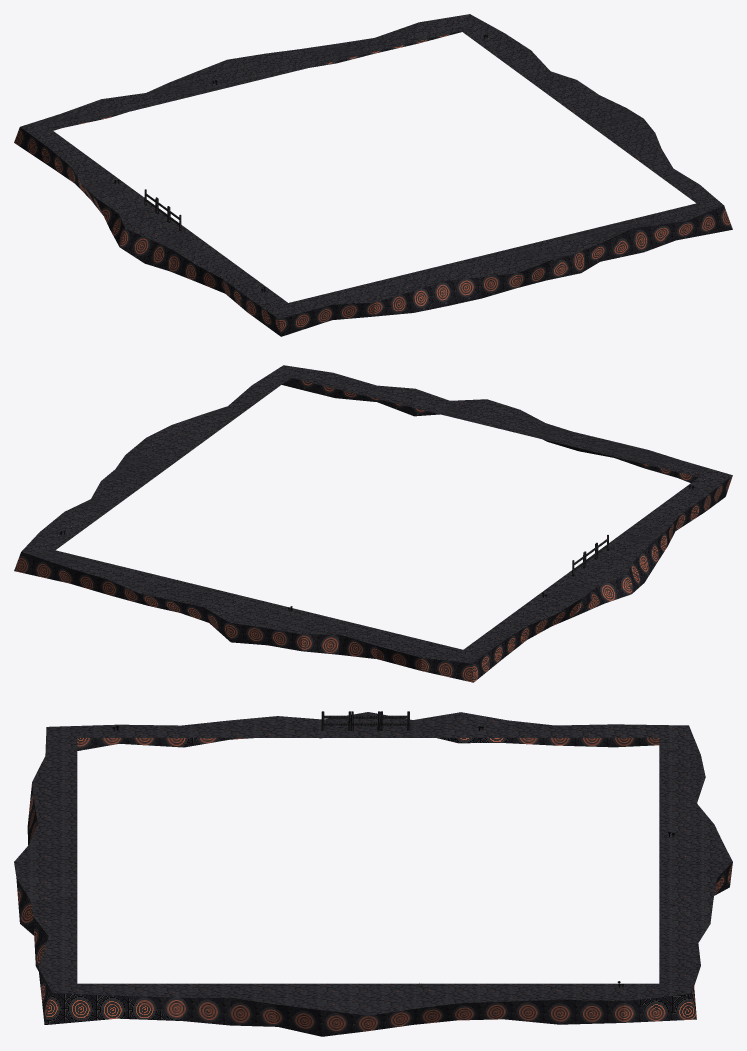
File: entorno_18.fbx
3 views of the same model, one above another, from view 1: azimuth 30°, elevation 25°; view 2: azimuth 150°, elevation 25°; view 3: azimuth 270°, elevation 25° (orthographic). The views are drawn at different scales.
Visible parts, largest first — view 1: vulcao_entorno_18; view 2: vulcao_entorno_18; view 3: vulcao_entorno_18.
Part boxes in pixels (box(x1,y1,x2,y2)): vulcao_entorno_18: box(14, 14, 732, 336); vulcao_entorno_18: box(14, 365, 732, 682); vulcao_entorno_18: box(14, 711, 732, 1036).
Bounding box in the file's own units: 2260 × 169 × 2249.
7 materials, 5 textured.
